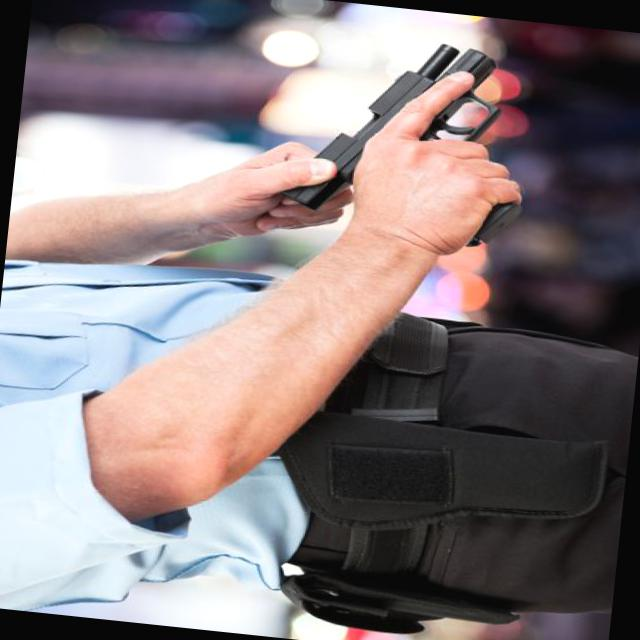handgun: (267, 28, 536, 254)
